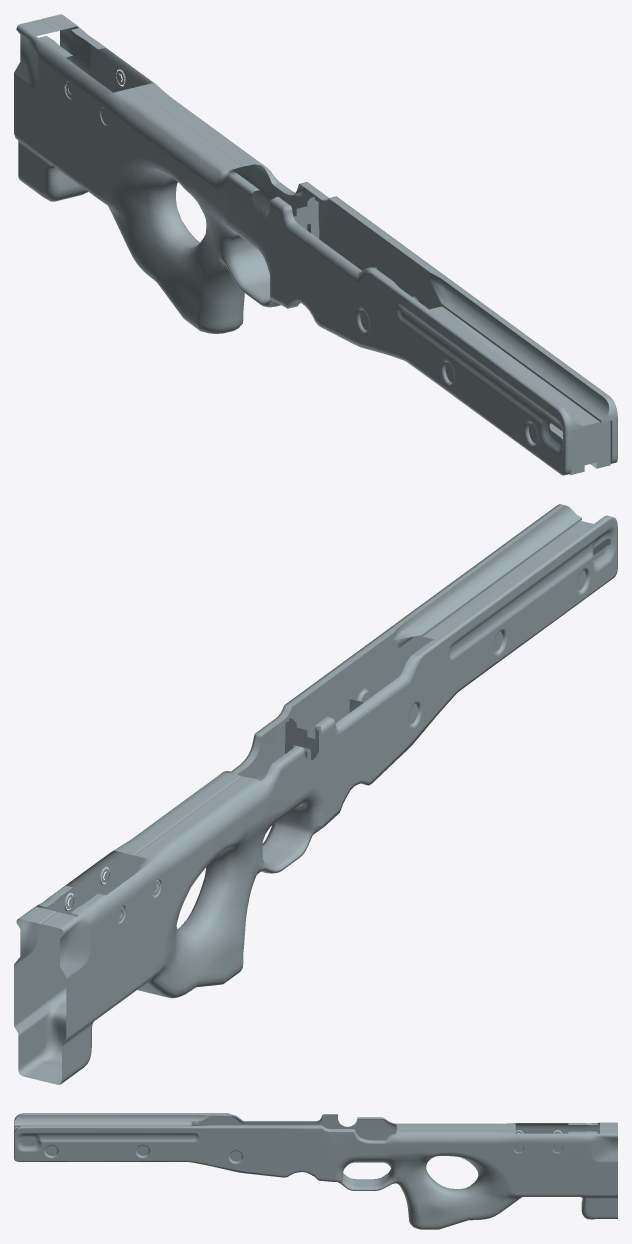
The model's file is awm_stock.obj.
3 renders of one model, top to bottom at view 1: azimuth 30°, elevation 25°; view 2: azimuth 150°, elevation 25°; view 3: azimuth 270°, elevation 25°, orthographic. The views are drawn at different scales.
Visible parts, largest first — view 1: stock_polymer_wood; view 2: stock_polymer_wood; view 3: stock_polymer_wood.
Boxes of the visible parts, bbox=[...] form: stock_polymer_wood: bbox=[14, 14, 617, 475]; stock_polymer_wood: bbox=[14, 504, 617, 1084]; stock_polymer_wood: bbox=[14, 1113, 617, 1229].
Bounding box in the file's own units: 1.75 × 6.1 × 31.89.
